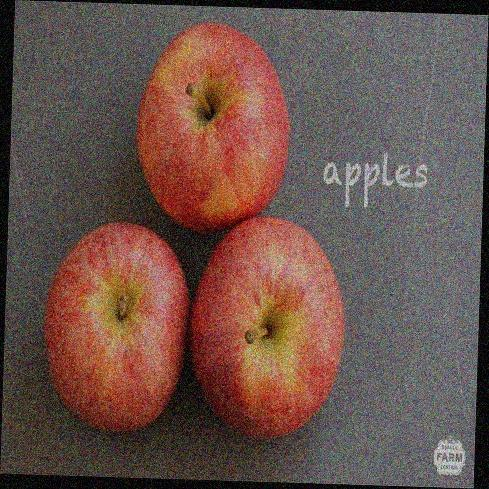red apple: (187, 211, 342, 443), (134, 21, 296, 232), (43, 224, 188, 435)
